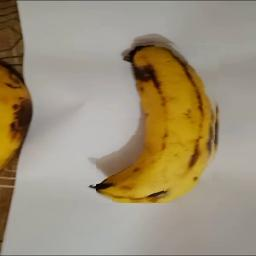Banana Semifresh: (96, 39, 220, 203)
